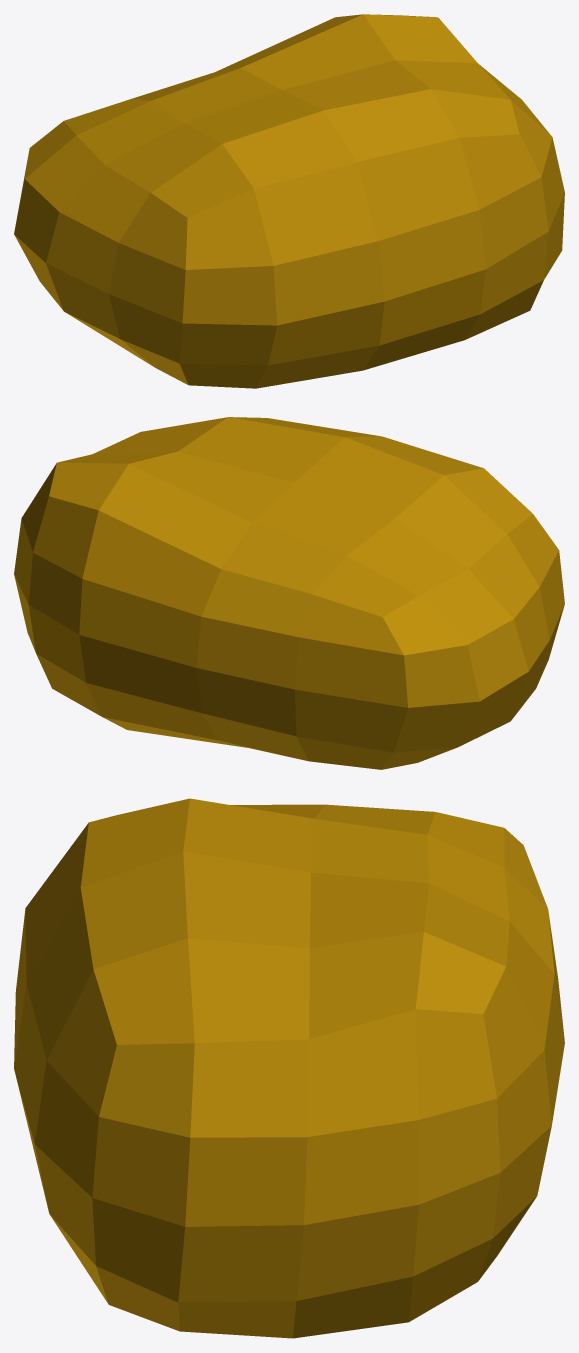
File: BakedPotato.glb
3 views of the same model, one above another, from view 1: azimuth 30°, elevation 25°; view 2: azimuth 150°, elevation 25°; view 3: azimuth 270°, elevation 25° (orthographic). The views are drawn at different scales.
Parts seen in each view (by area): view 1: Cube; view 2: Cube; view 3: Cube.
Boxes of the visible parts, x1=… form: Cube: x1=14, y1=14, x2=564, y2=388; Cube: x1=14, y1=417, x2=564, y2=769; Cube: x1=14, y1=798, x2=564, y2=1338.
Bounding box in the file's own units: 0.2448 × 0.1314 × 0.169.
